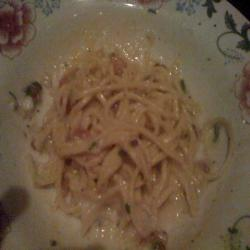carbonara: (39, 54, 212, 232)
